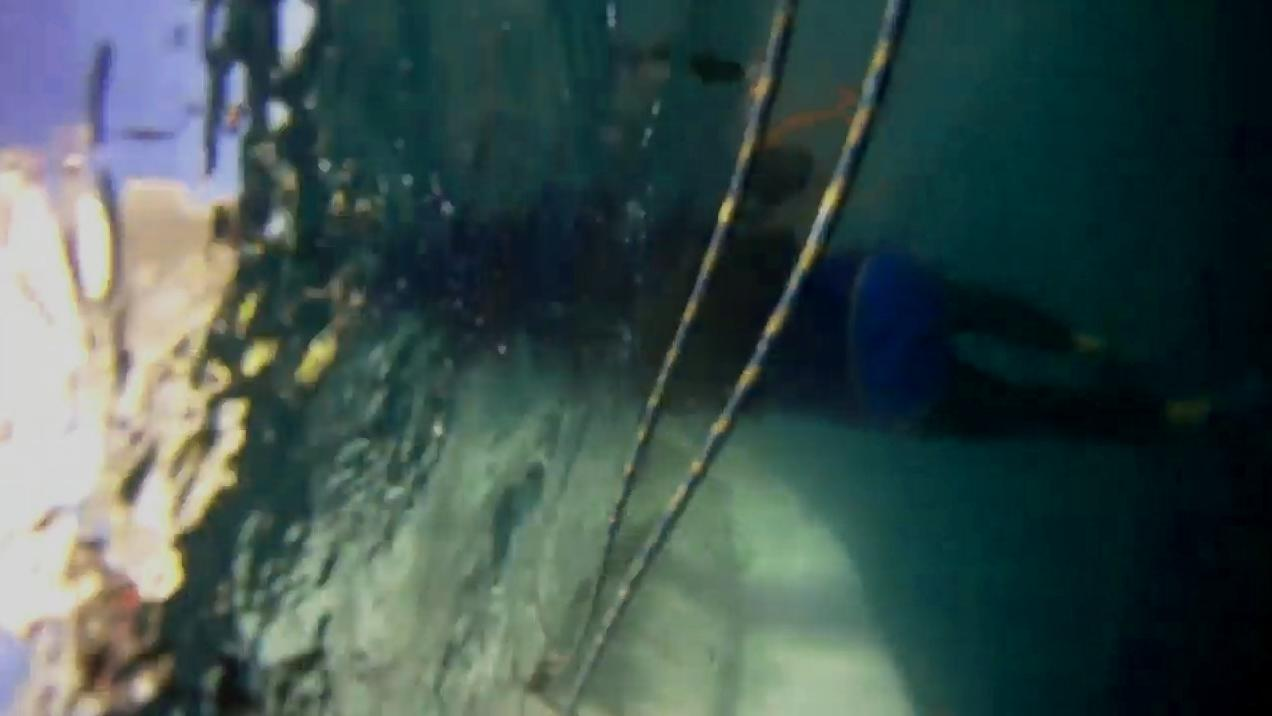boat: (430, 404, 908, 716)
person: (544, 146, 1119, 428)
underwater: (0, 0, 1272, 716)
